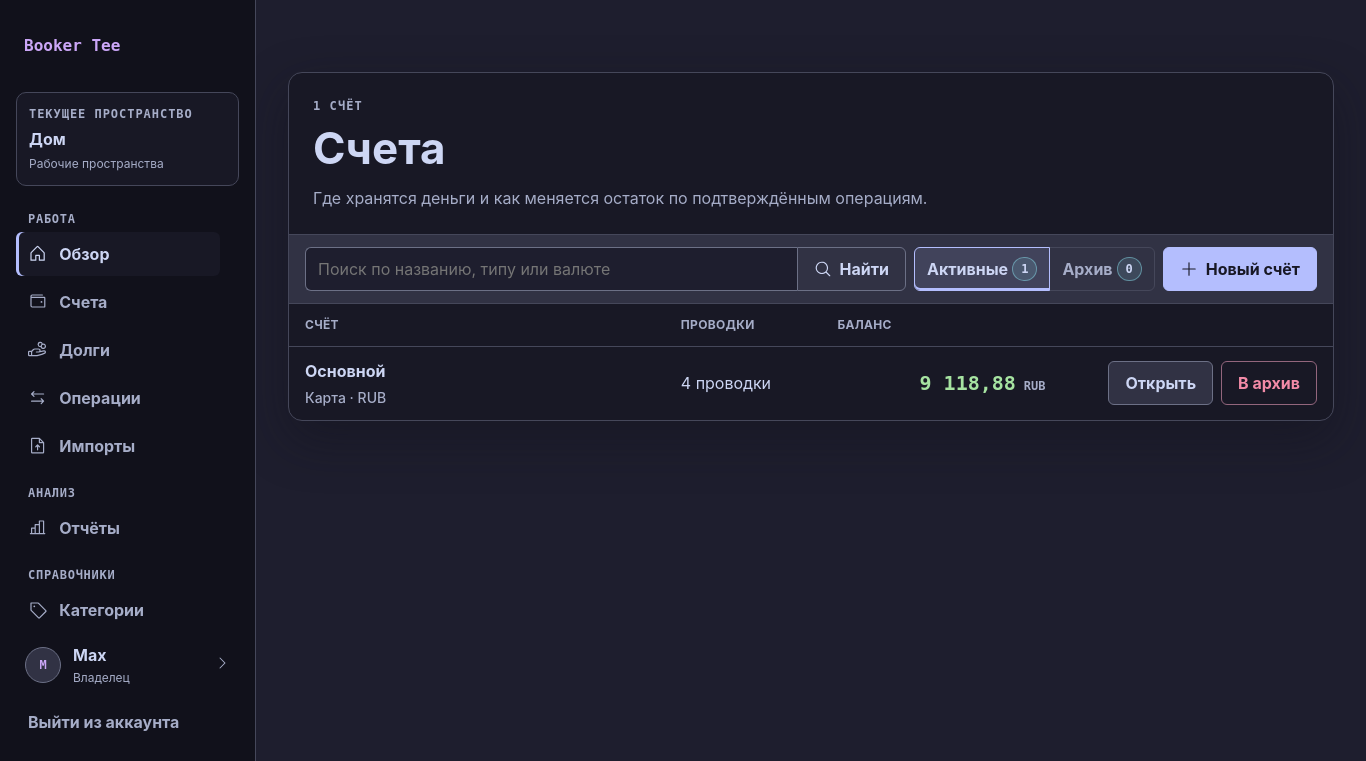
Test: AccountListPage › focuses and explains invalid create fields
Click the button "Новый счёт": click(1240, 269) 1163,247 -> 1317,291
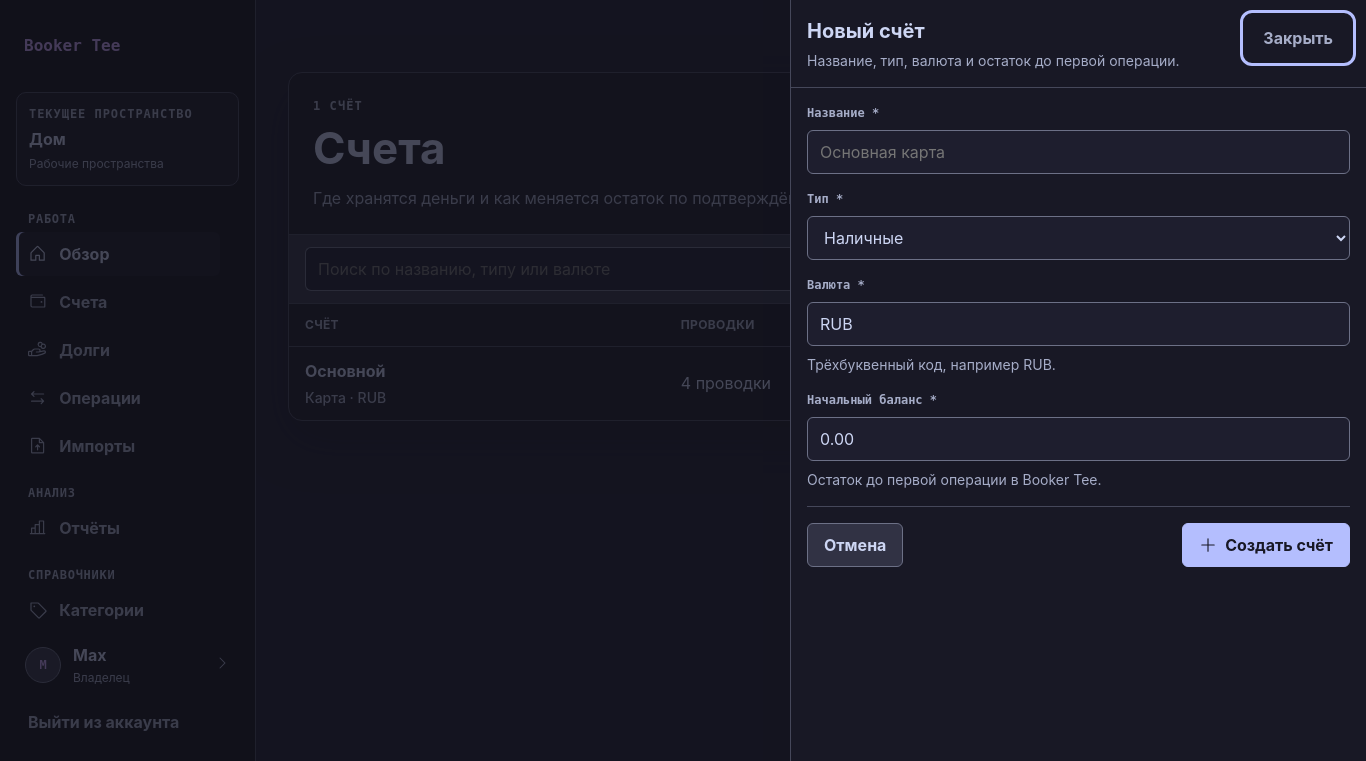
Clear the field labelled "Валюта *": (1078, 324) 807,302 -> 1350,346
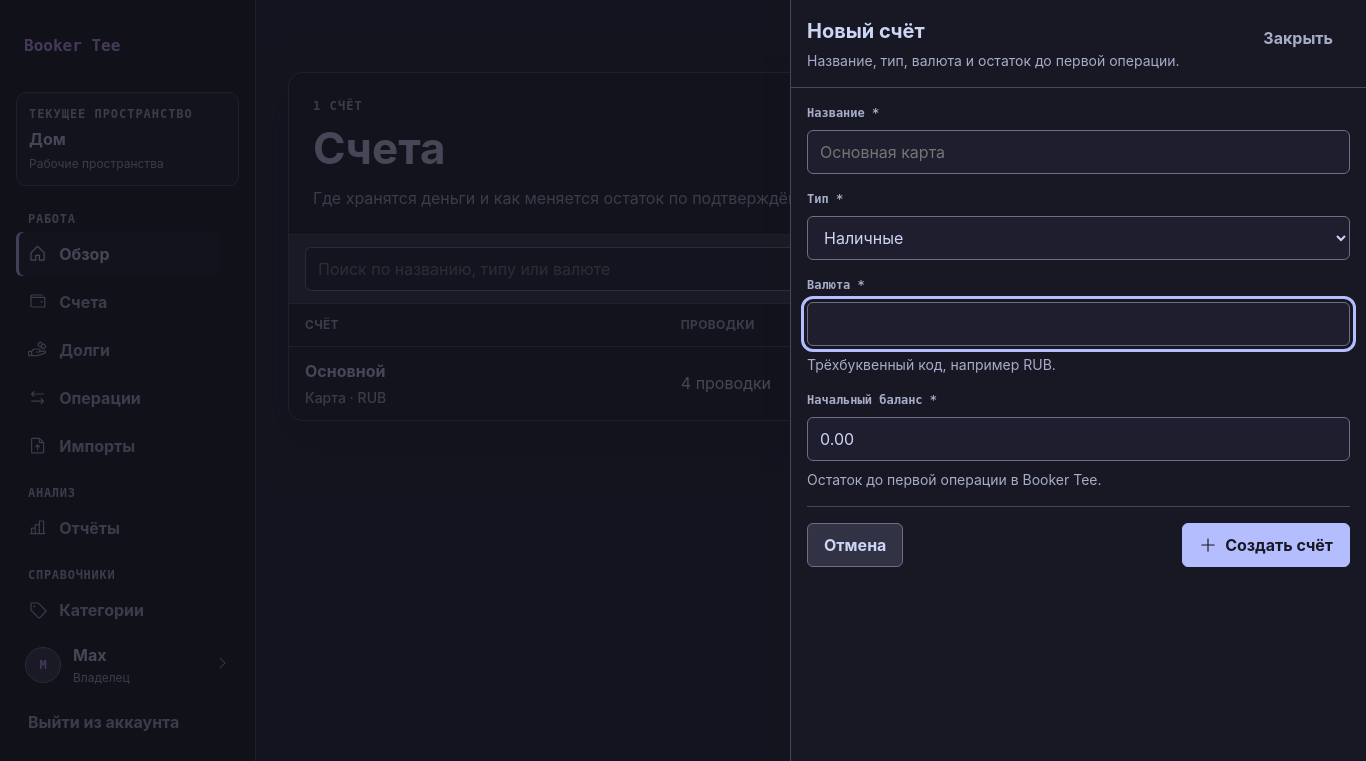
Clear the field labelled "Начальный баланс *": (1078, 439) 807,417 -> 1350,461
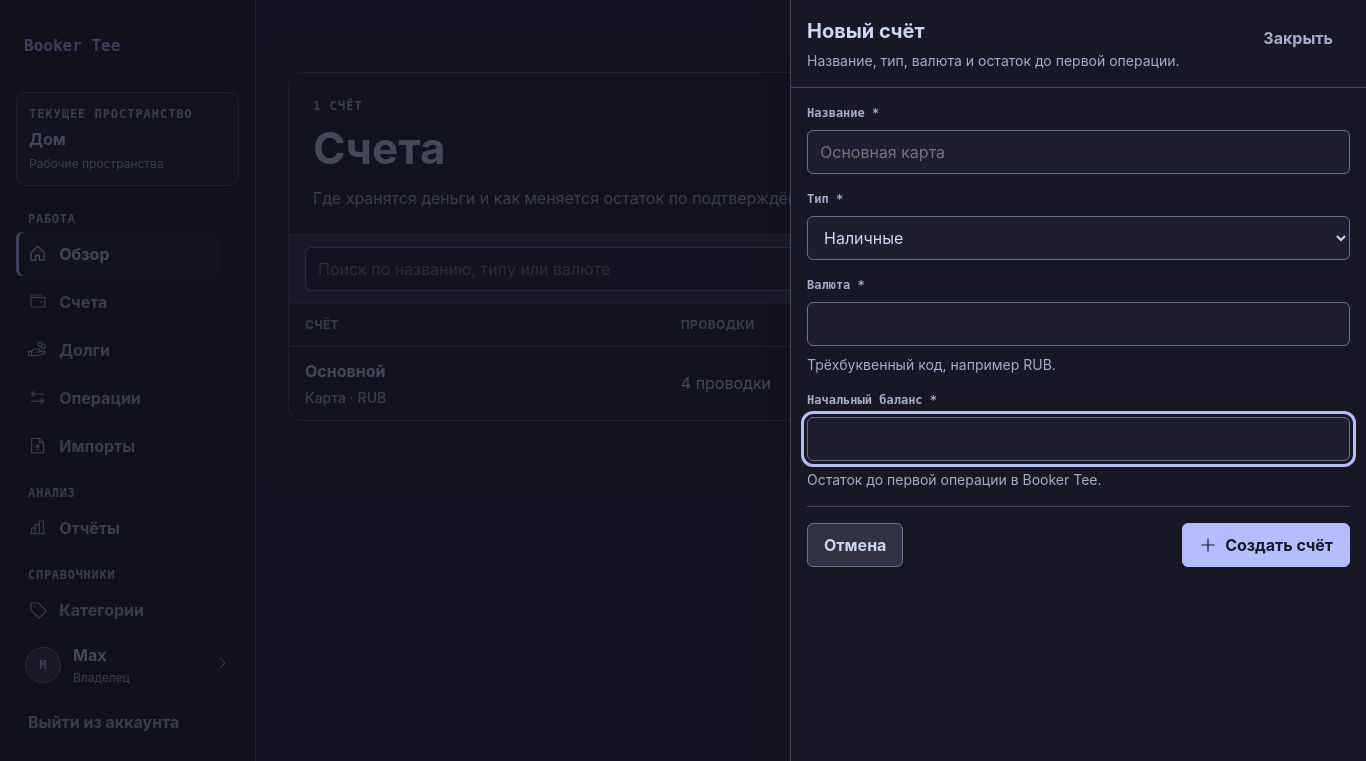
Click the button "Создать счёт": click(1266, 545) 1182,523 -> 1350,567
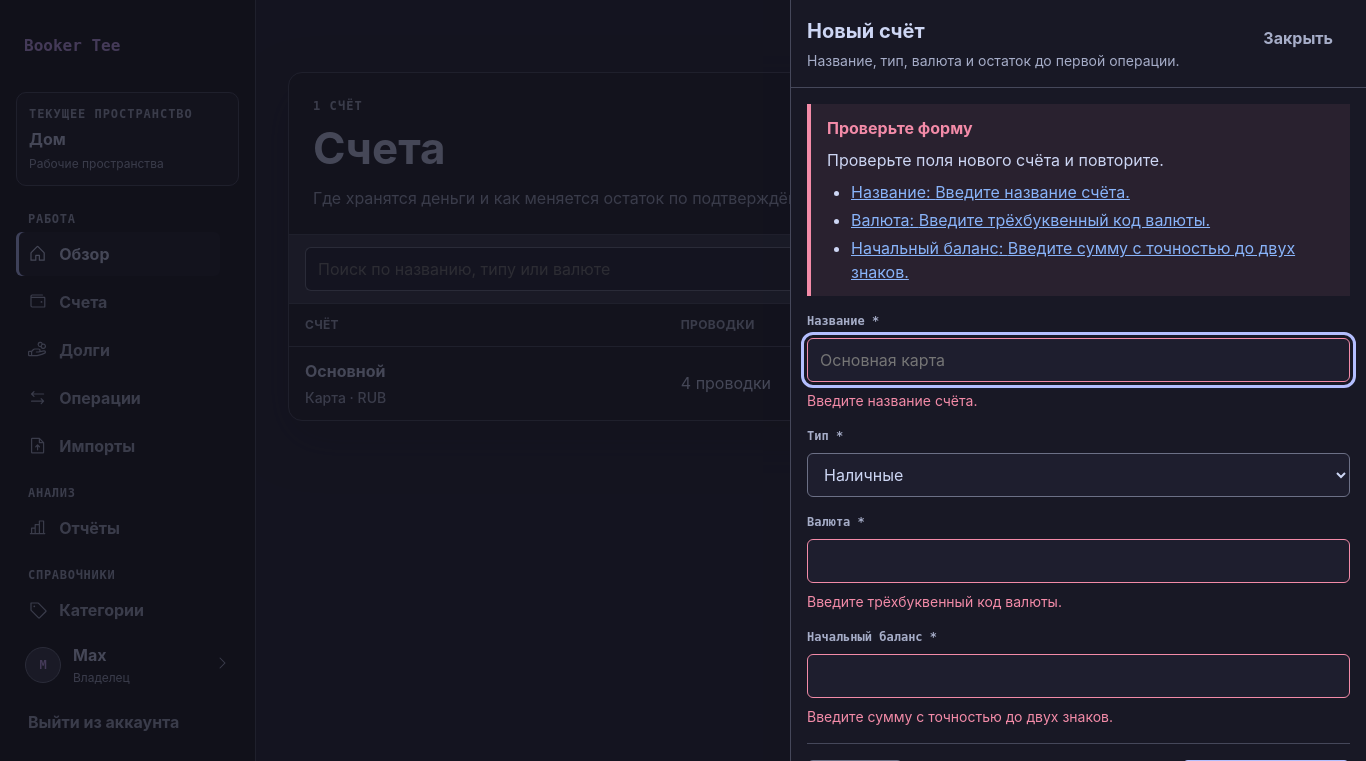
expect the text "Введите название счёта." is shown: met, box 807,392 -> 977,409
expect the text "Введите трёхбуквенный код валюты." is shown: met, box 807,593 -> 1062,610
expect the text "Введите сумму с точностью до двух знаков." is shown: met, box 807,708 -> 1113,725
